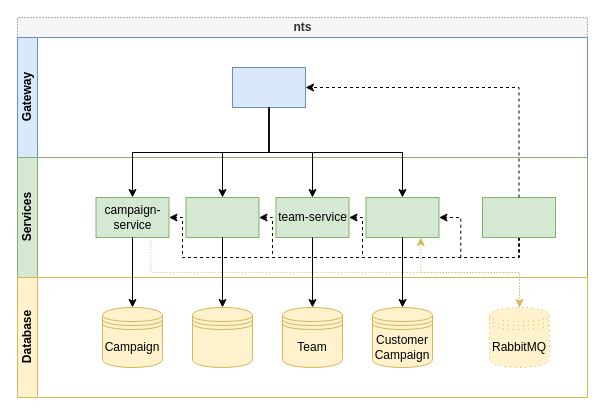
The diagram is 605 pixels wide and 415 high, and some of its shapes have lost their labels. The shapes that lost their labels are listed below. From the top down, each one's centre as x and y in pixels, then its label:
point 269,87: api-gatway-service
point 222,217: customer-service
point 402,217: customer-campaign-service
point 519,217: naming-service
point 222,337: Customer
